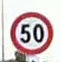limite 50: (9, 10, 52, 55)
